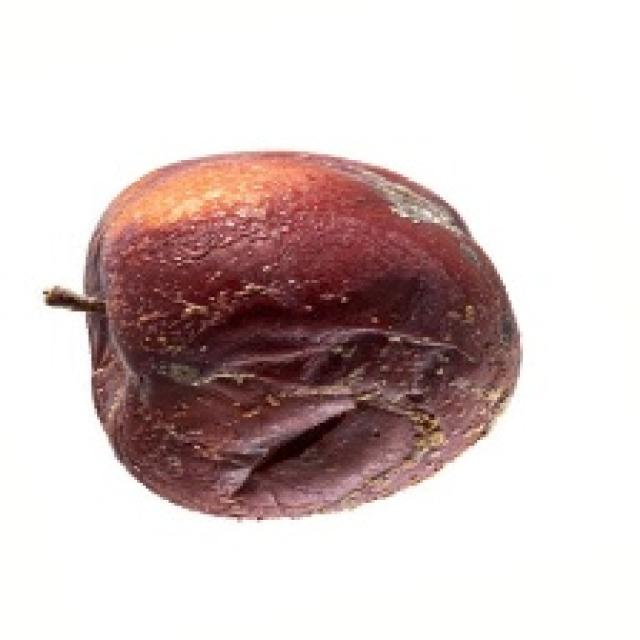rotten_apple: (82, 155, 520, 513)
